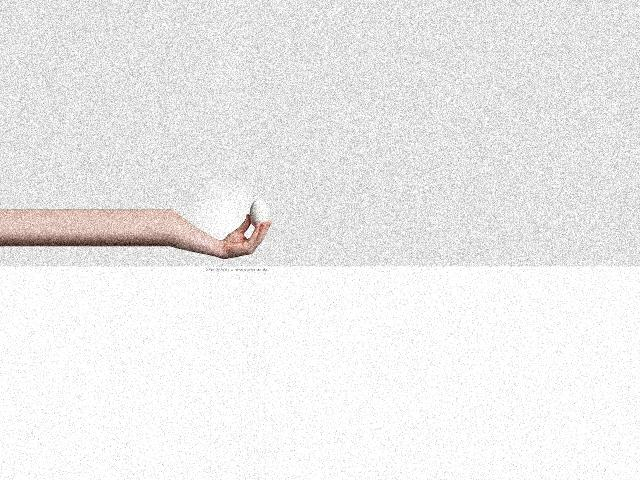egg: (248, 198, 268, 227)
